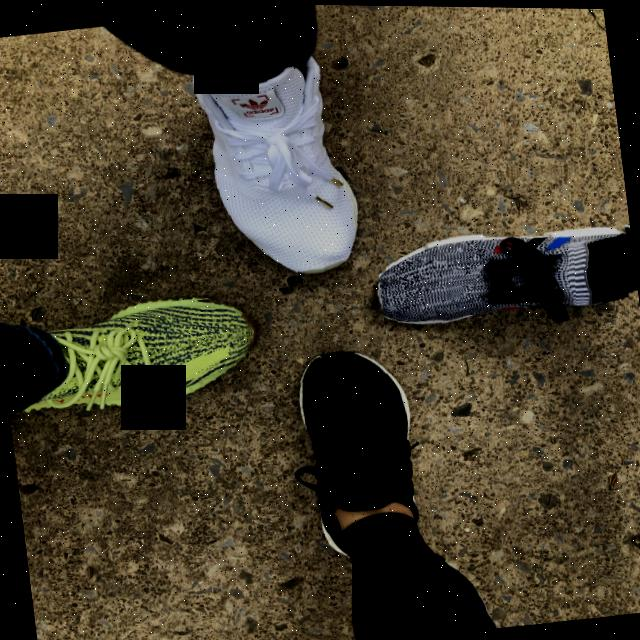shoe: (134, 2, 387, 306), (367, 152, 640, 369), (0, 248, 262, 445), (251, 331, 446, 594)
